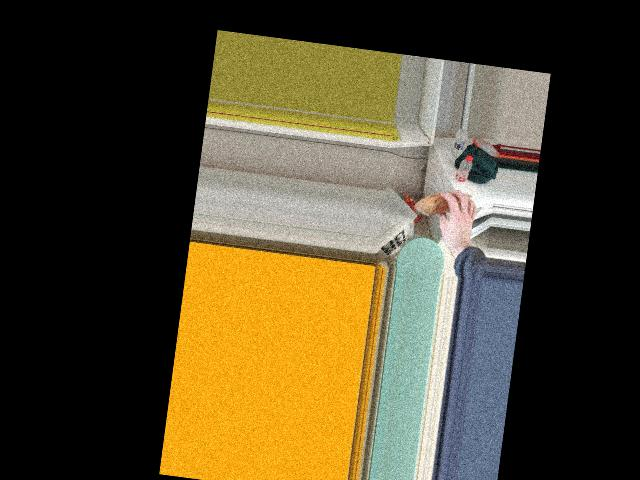sweet_potato: (415, 186, 475, 219)
